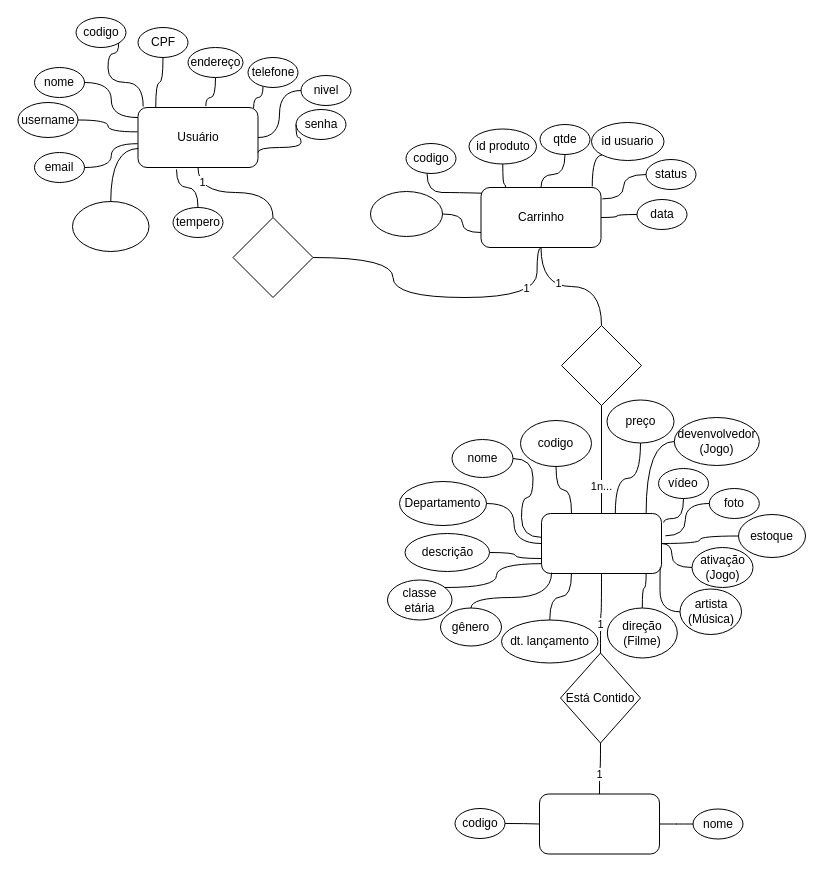
The diagram is 823 pixels wide and 872 high, and some of its shapes have lost their labels. Here are the shapes that lost their labels. From the top down, the centre of each, then its label:
At point 110,226: "data nascimento".
At point 406,213: "cod carrinho".
At point 272,257: "possui".
At point 601,365: "contem".
At point 601,543: "Produto".
At point 599,823: "Categoria".
